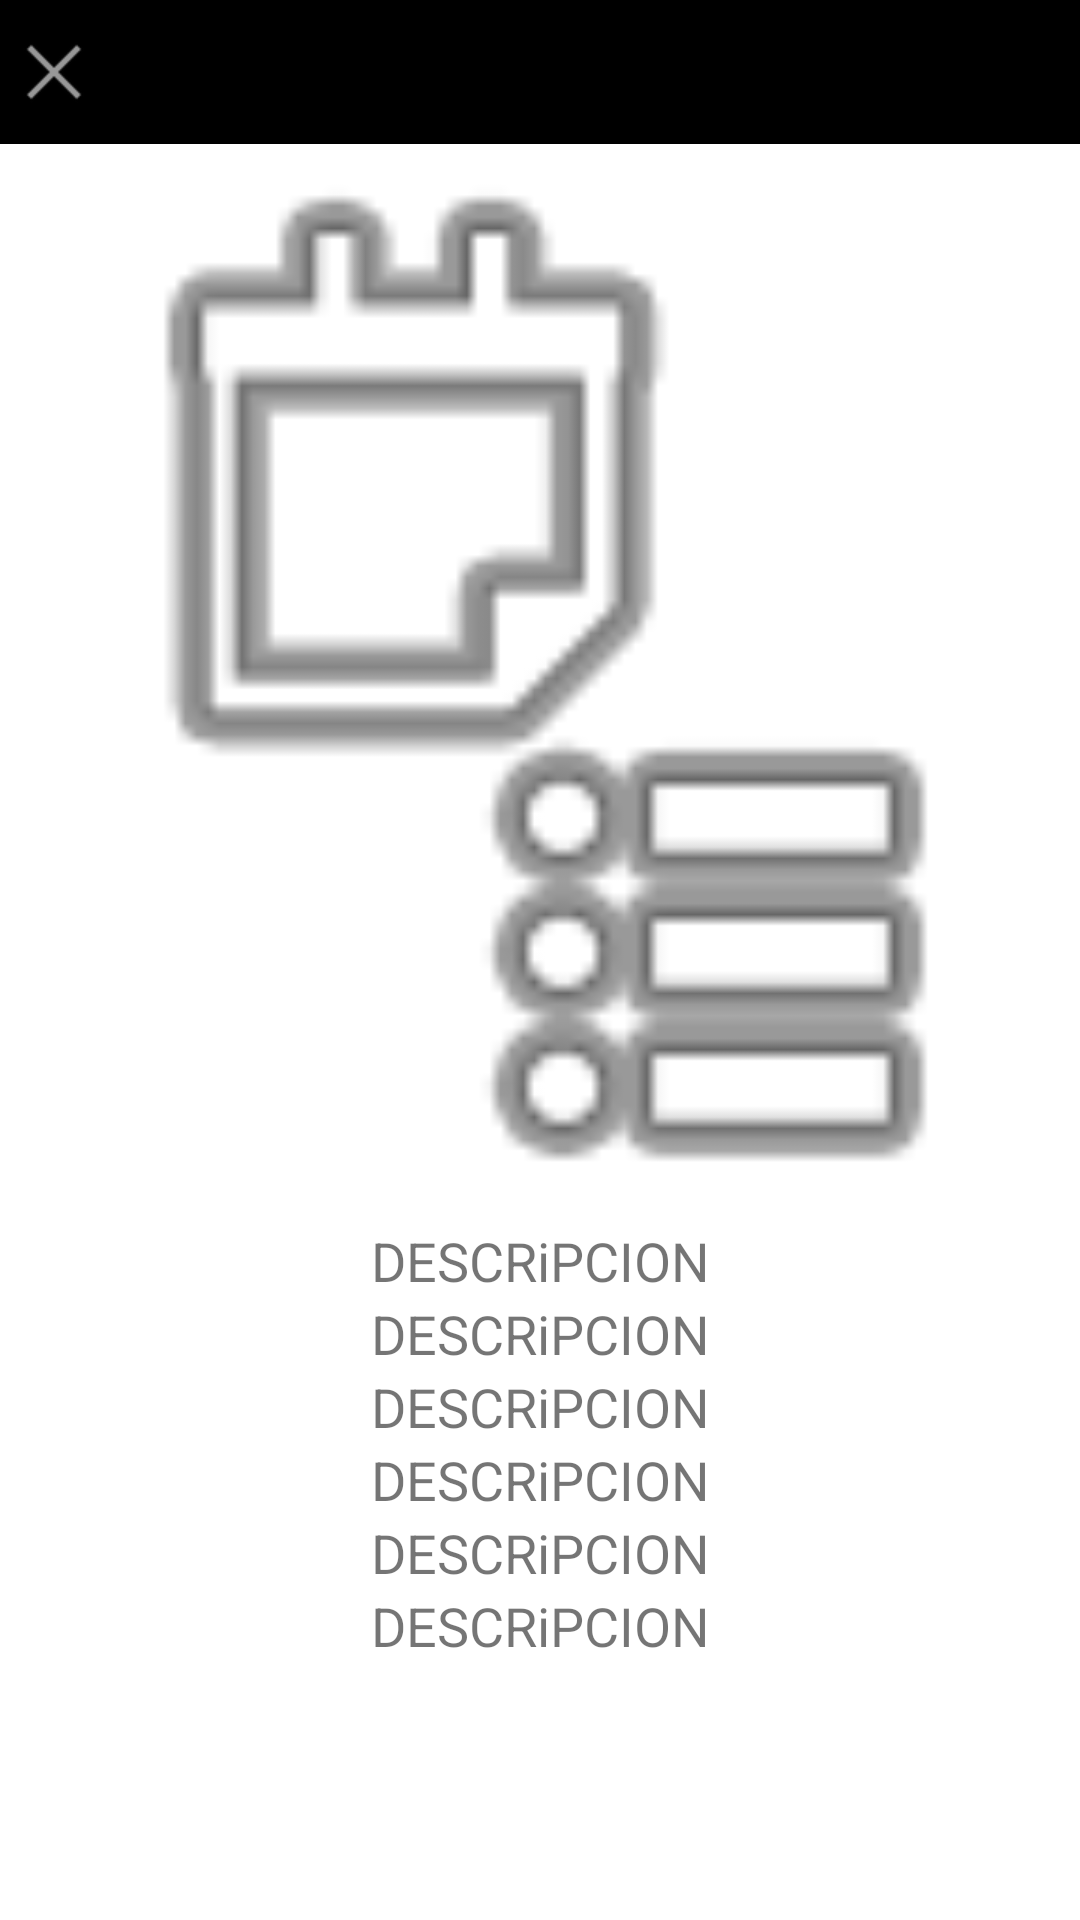

Where to tap for icons on this 1080px×1920px app screen, as (x,y):
close clear cancel: (54,72)
